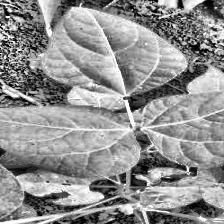ALS: (39, 3, 188, 102), (0, 104, 144, 180)
